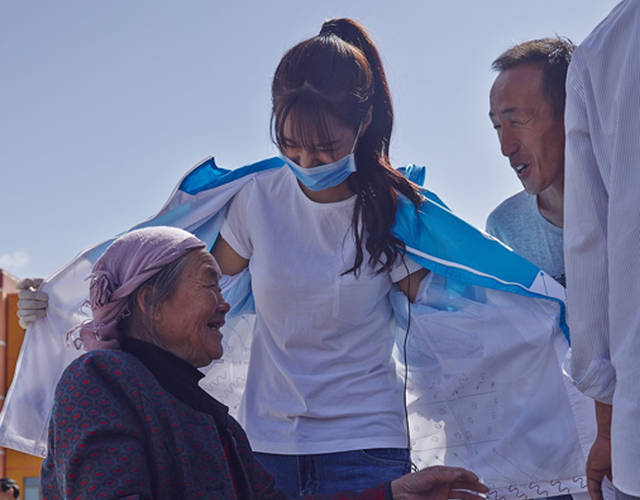face: (491, 67, 567, 193), (153, 251, 233, 358)
face_mask: (276, 107, 356, 189)
